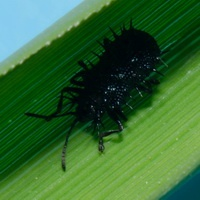insect: (25, 19, 161, 170)
